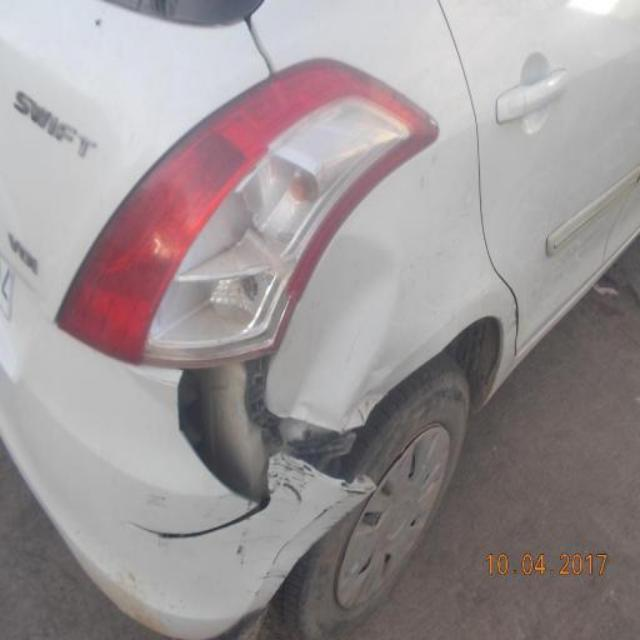dent: (275, 231, 406, 421)
lamp broken: (148, 181, 306, 361)
no part: (131, 364, 377, 623)
